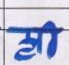i_matra: (43, 20, 56, 57)
